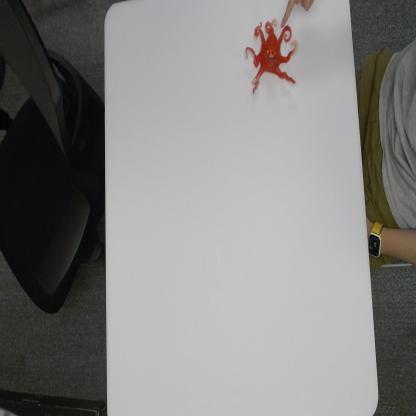Hand: (280, 0, 320, 31)
Octopus: (245, 17, 299, 94)
